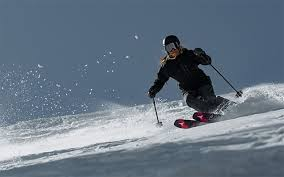skis: (172, 112, 224, 130)
